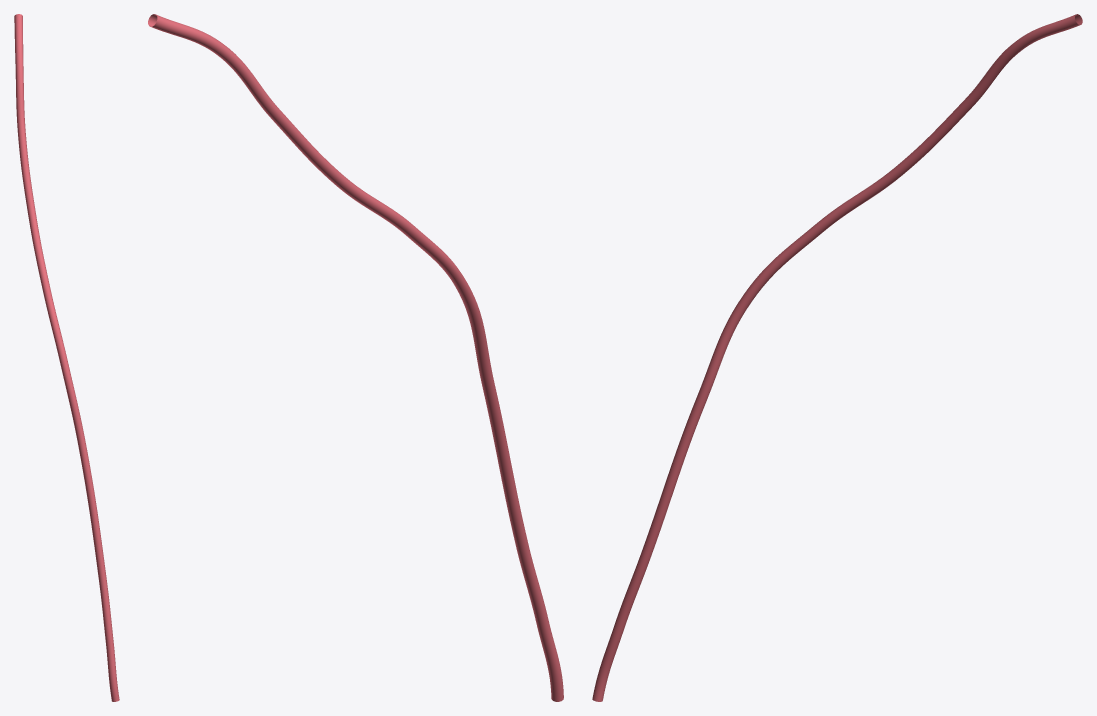
3 views of the same model, side by side, from view 1: azimuth 30°, elevation 25°; view 2: azimuth 150°, elevation 25°; view 3: azimuth 270°, elevation 25° (orthographic). The views are drawn at different scales.
Visible parts, largest first — view 1: ZA_671e67ddbfbab388; view 2: ZA_671e67ddbfbab388; view 3: ZA_671e67ddbfbab388.
Part boxes in pixels (bbox=[...]): ZA_671e67ddbfbab388: bbox=[14, 14, 119, 701]; ZA_671e67ddbfbab388: bbox=[148, 14, 563, 701]; ZA_671e67ddbfbab388: bbox=[592, 14, 1082, 701].
Bounding box in the file's own units: 0.0288 × 0.1727 × 0.1039.
